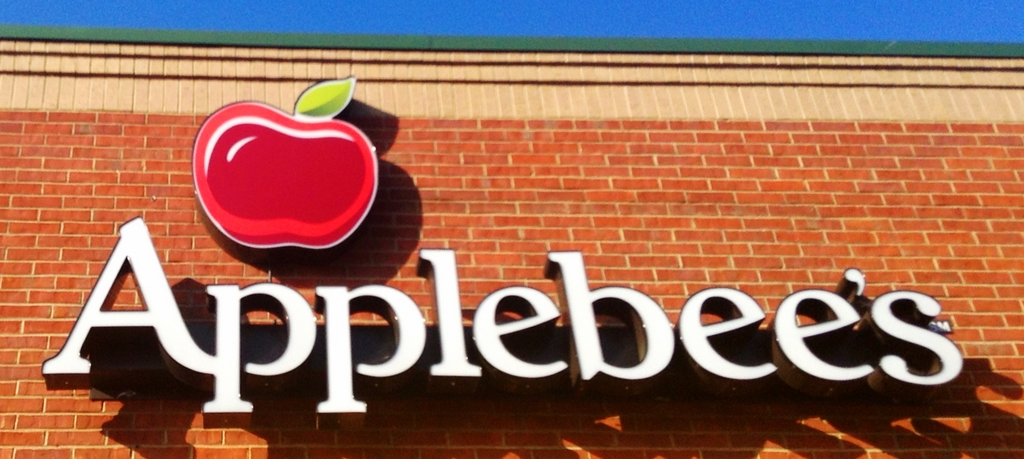Apple: (190, 73, 377, 252)
